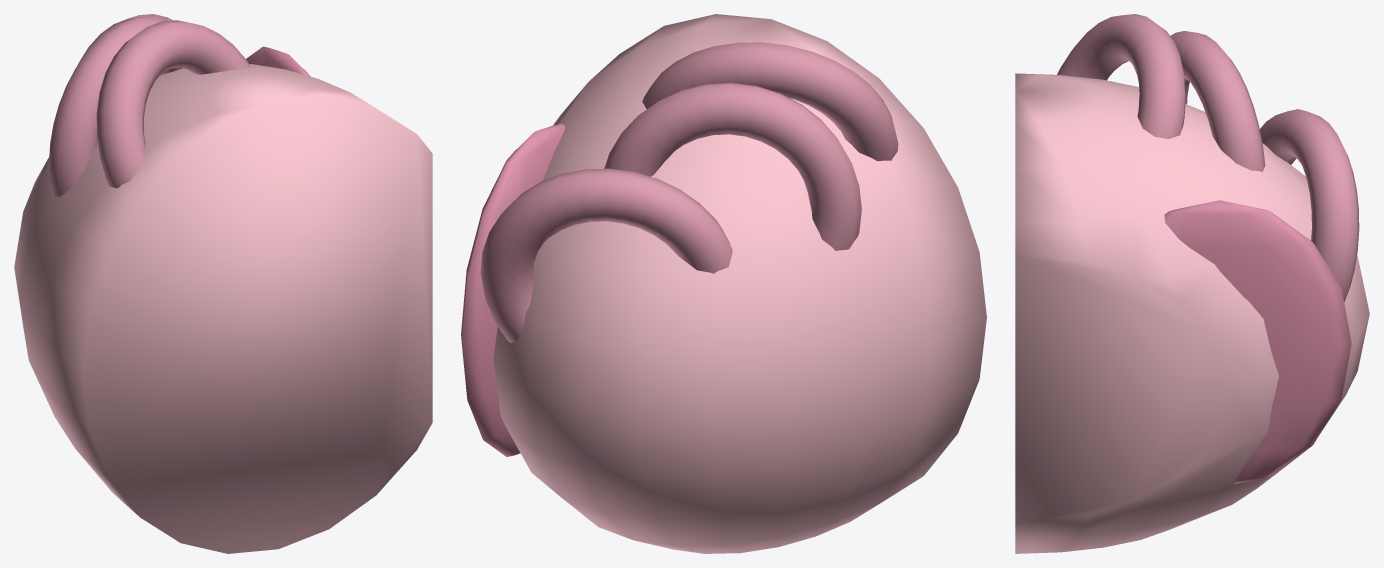
Rendered from chunk43.glb.
3 renders of one model, left to right at view 1: azimuth 30°, elevation 25°; view 2: azimuth 150°, elevation 25°; view 3: azimuth 270°, elevation 25°, orthographic. The views are drawn at different scales.
Parts seen in each view (by area): view 1: brain, fold, flesh; view 2: brain, fold, flesh; view 3: brain, fold, flesh.
Part boxes in pixels (x1,y1,x2,y2): brain: (14,64,432,553); fold: (49,14,249,197); flesh: (246,46,310,76); brain: (493,14,986,553); fold: (480,42,898,342); flesh: (461,123,565,456); brain: (1015,73,1369,553); fold: (1057,14,1359,301); flesh: (1164,200,1351,483).
Bounding box in the file's own units: 0.9145 × 1.21 × 0.806.
